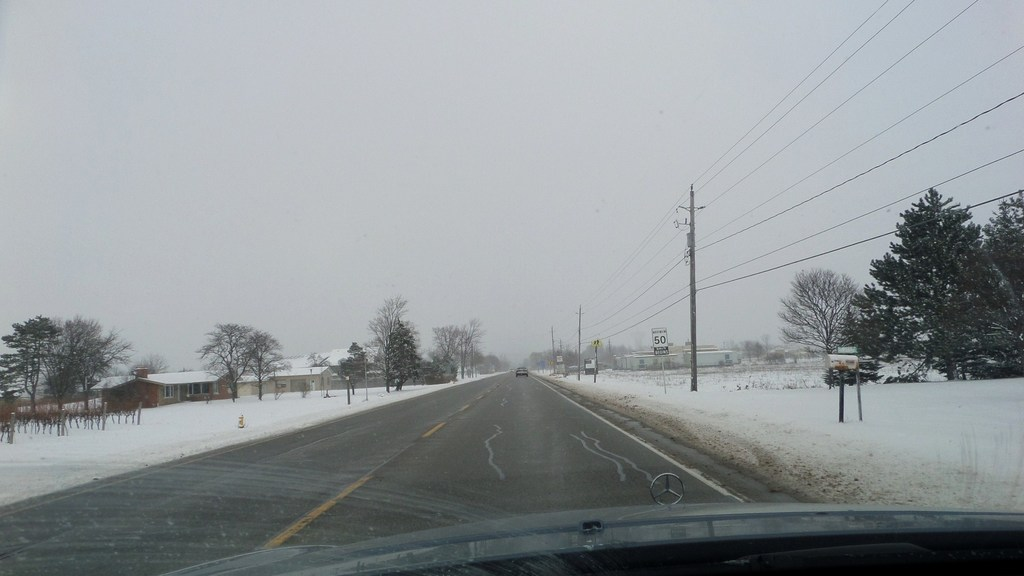Tree: (932, 184, 1023, 376), (41, 314, 129, 409), (776, 266, 871, 353), (0, 313, 65, 407), (197, 318, 262, 394), (366, 292, 411, 392), (236, 328, 293, 393), (432, 316, 480, 378), (380, 317, 421, 387), (330, 339, 372, 391)
